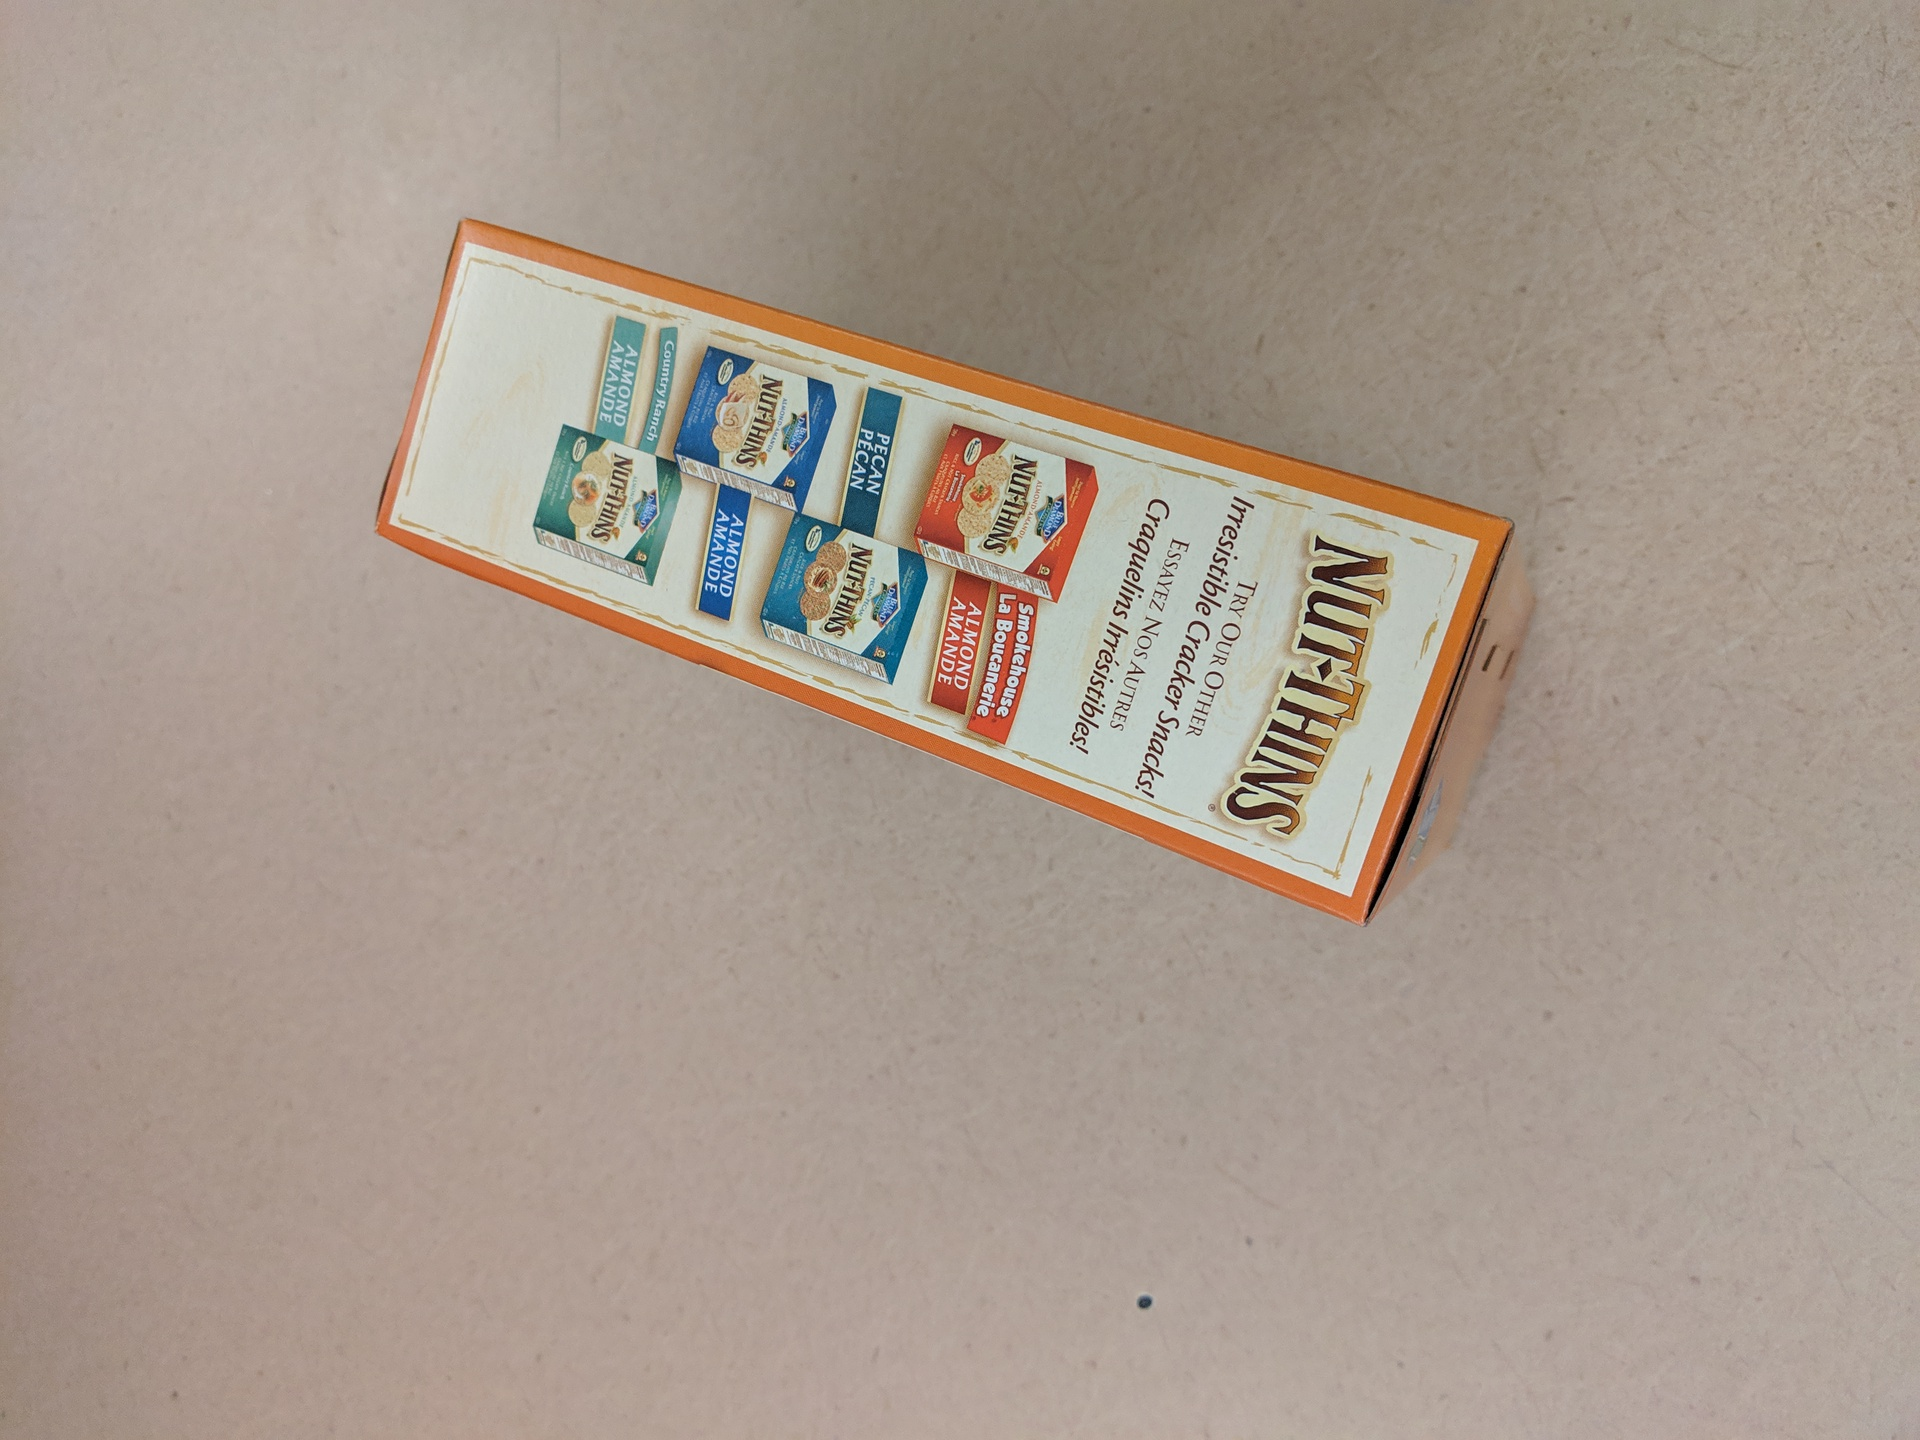blue_diamond_nut_thins_almond_cheddar: (357, 197, 1566, 968)
